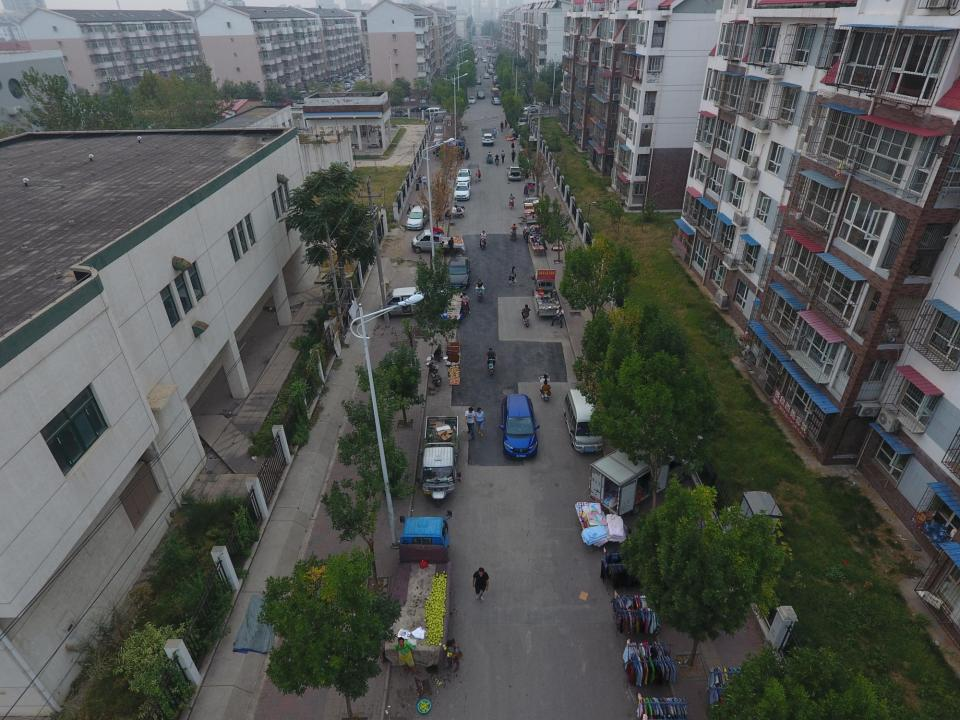car: (563, 389, 605, 452), (500, 394, 538, 460), (378, 286, 440, 316), (446, 256, 470, 291), (406, 206, 426, 230), (453, 182, 471, 201), (456, 169, 472, 185), (507, 166, 521, 180), (424, 108, 442, 117), (434, 125, 446, 138), (432, 110, 446, 121), (410, 105, 430, 112), (482, 134, 494, 145), (392, 109, 408, 116), (468, 96, 475, 105), (492, 98, 499, 104), (478, 92, 485, 98), (476, 78, 482, 84), (483, 72, 489, 78), (492, 75, 498, 81), (474, 56, 479, 62), (489, 68, 494, 74), (482, 58, 487, 62), (488, 52, 492, 57), (490, 64, 494, 68), (477, 46, 482, 49)
truck: (382, 516, 448, 672), (589, 438, 692, 511), (423, 416, 460, 508), (531, 273, 563, 318), (412, 230, 466, 252)
